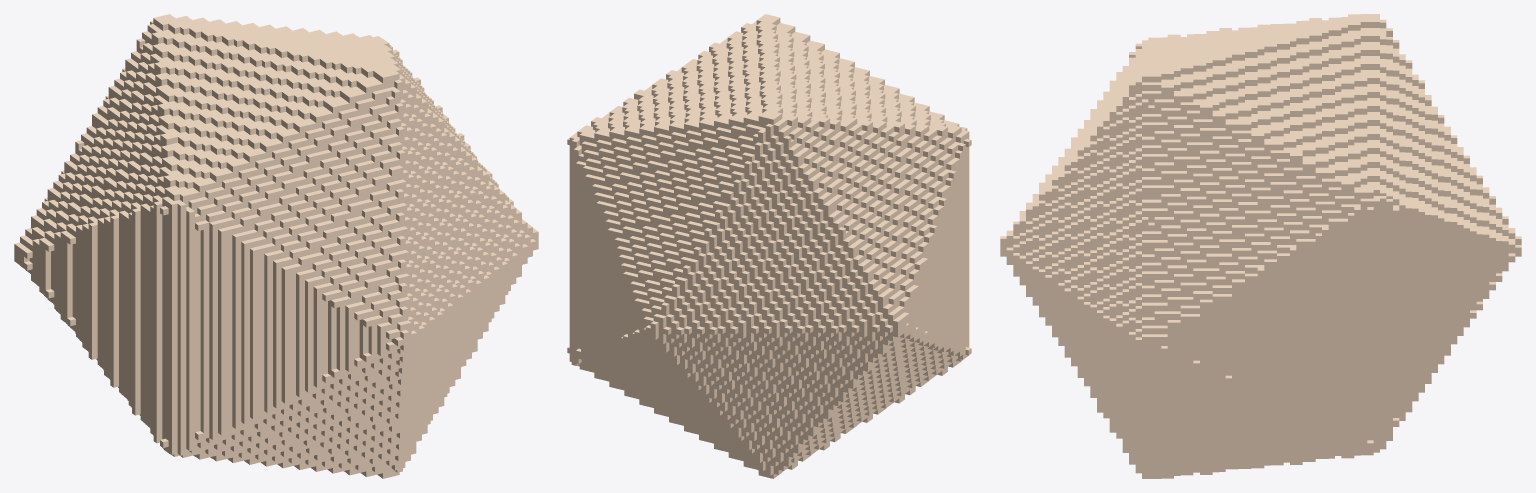
The model's file is icosa20_poly.obj.
3 views of the same model, side by side, from view 1: azimuth 30°, elevation 25°; view 2: azimuth 150°, elevation 25°; view 3: azimuth 270°, elevation 25° (orthographic). The views are drawn at different scales.
Bounding box in the file's own units: 73 × 69 × 81.
